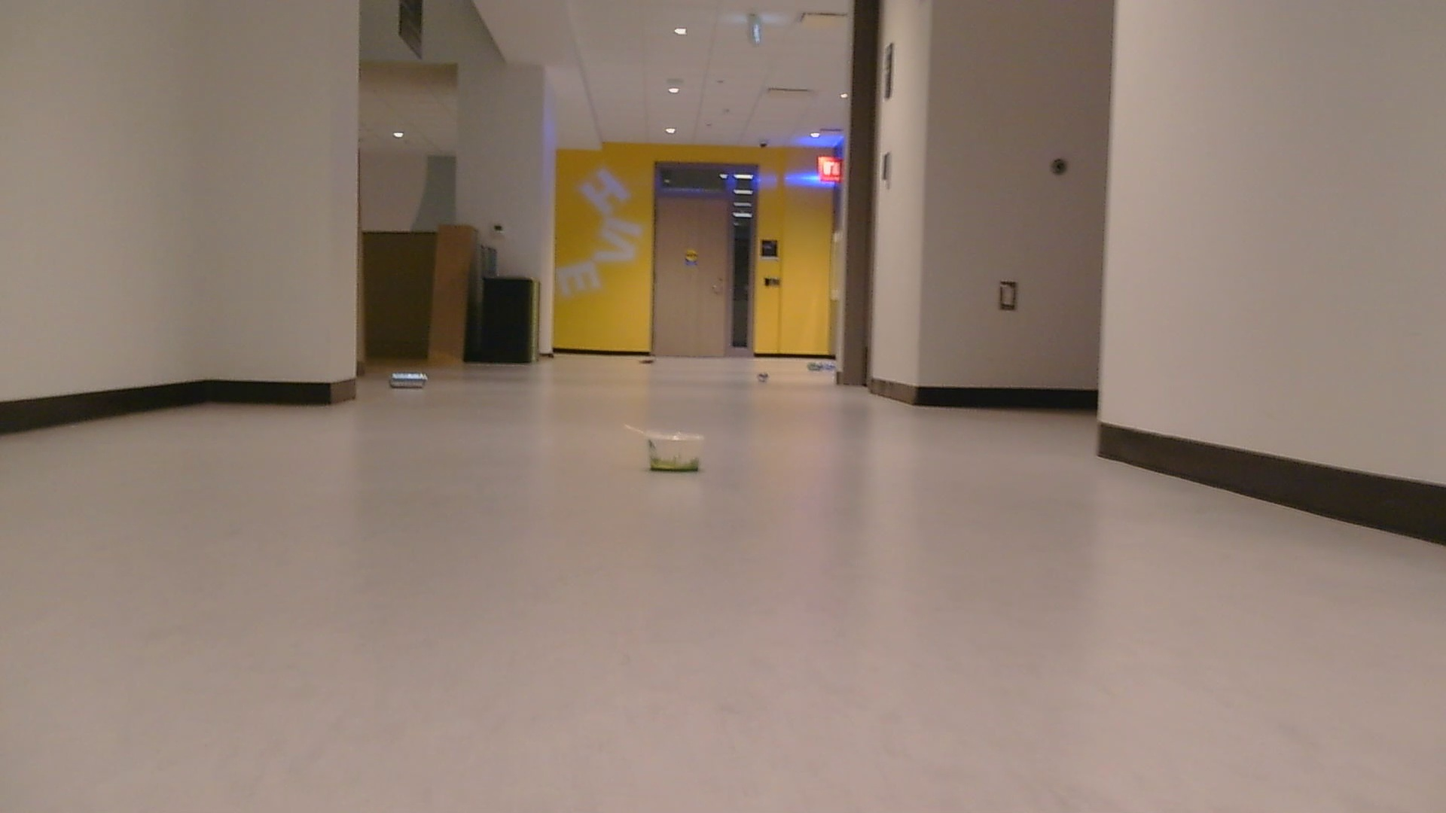carton: (634, 419, 710, 477), (389, 364, 435, 391), (809, 358, 835, 374), (636, 355, 655, 369), (753, 372, 770, 385)
